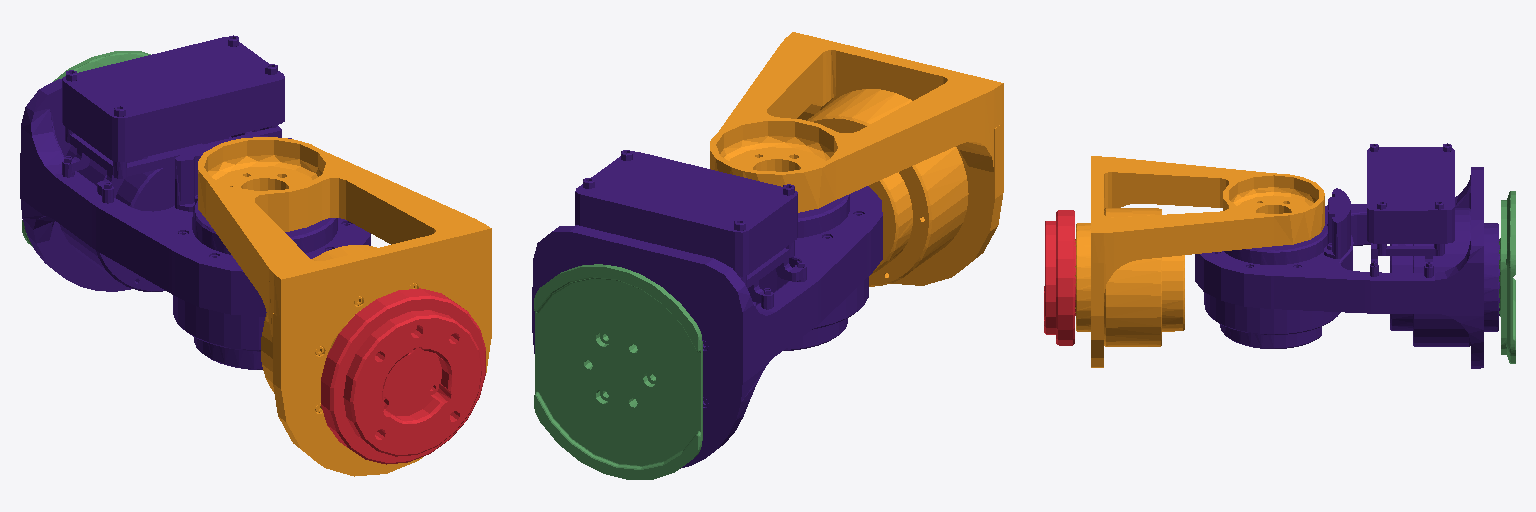
URDF robot description (cots_forearm):
<?xml version="1.0"?>
<robot name="cots_forearm">
	<link name = "world"/>
	<joint name="world_to_base" type="fixed">
		<parent link="world"/>
		<child link="base"/>
	</joint>

	<link name="base">
		<visual>
			<geometry>
				<mesh filename="package://val_description/model/meshes/forearm/cots/cots_link1.stl"/>
			</geometry>
			<origin xyz="0.0 0.0 0.0" rpy="0.0 0.0 0.0"/>
			<material name="forest_gree_crayola">
				<color rgba="0.38823529 0.64313725 0.42352941 1"/>
			</material>
		</visual>
		<collision>
			<geometry>
				<mesh filename="package://val_description/model/meshes/forearm/cots/cots_link1.stl"/>
			</geometry>
			<origin xyz="0.0 0.0 0.0" rpy="0.0 0.0 0.0"/>
		</collision>
	</link>

	<link name="input_link">
		<visual>
			<geometry>
				<mesh filename="package://val_description/model/meshes/forearm/cots/cots_link2.stl"/>
			</geometry>
			<origin xyz="0 0 0.0"/>
			<material name="spanish_violet">
				<color rgba="0.30588235 0.16470588 0.52156863 1"/>
			</material>
		</visual>
		<collision>
			<geometry>
				<mesh filename="package://val_description/model/meshes/forearm/cots/cots_link2.stl"/>
			</geometry>
			<origin xyz="0 0 0.0"/>
		</collision>
	</link>
	
	<link name="output_link">
		<visual>
			<geometry>
				<mesh filename="package://val_description/model/meshes/forearm/cots/cots_link3.stl"/>
			</geometry>
			<origin xyz="0 0 0.0"/>
			<material name="yellow_orange">
				<color rgba="1.0 0.65098039 0.18823529 1"/>
			</material>
		</visual>
		<collision>
			<geometry>
				<mesh filename="package://val_description/model/meshes/forearm/cots/cots_link3.stl"/>
			</geometry>
			<origin xyz="0 0 0.0"/>
		</collision>
	</link>

	<link name="end_effector">
		<visual>
			<geometry>
				<mesh filename="package://val_description/model/meshes/forearm/cots/cots_link4.stl" />
			</geometry>
			<origin xyz="0 0 0.0"/>
			<material name="imperial_red">
				<color rgba="0.90196078 0.22352941 0.2745098 1"/>
			</material>
		</visual>
		<collision>
			<geometry>
				<mesh filename="package://val_description/model/meshes/forearm/cots/cots_link4.stl" />
			</geometry>
			<origin xyz="0 0 0.0"/>
		</collision>
	</link>
 
	<joint name="first_roll" type="revolute">
		<axis xyz="0 0 1"/>
		<limit effort="1000.0" lower="-3.1415" upper="3.1415" velocity="0.5"/>
		<parent link = "base"/>
		<child link="input_link"/>
		<origin xyz="0.0 0.0 0.0" rpy="-1.57 0.0 0.0"/>
	</joint>

	<joint name="pitch" type="revolute">
		<axis xyz="0 0 1"/>
		<limit effort="1000.0" lower="-1.5708" upper="1.5708" velocity="0.5"/>
		<parent link="input_link"/>
		<child link="output_link"/>
		<origin xyz="0.0 -0.0305 -0.1235 " rpy="1.57 0.0 0.0"/>
	</joint>

	<joint name="second_roll" type="revolute">
		<axis xyz="0 0 1"/>
		<limit effort="1000.0" lower="-3.1415" upper="3.1415" velocity="0.5"/>
		<parent link="output_link"/>
		<child link="end_effector"/>
		<origin xyz="0 -0.109 -0.0305" rpy="-1.57 3.14 0.0"/>
	</joint>





</robot>

--- Render facts (derived) ---
3 views of the same robot in one strip: view 1: azimuth 30°, elevation 25°; view 2: azimuth 150°, elevation 25°; view 3: azimuth 270°, elevation 25° (orthographic).
Robot: cots_forearm — 5 links, 4 joints (3 revolute, 1 fixed); root link world; default pose: all joints at 0.
Links seen in each view (by area): view 1: input_link, output_link, end_effector, base; view 2: input_link, output_link, base; view 3: input_link, output_link, end_effector, base.
Boxes of the visible links, <box> form: input_link: <box>20,35,370,369</box>; output_link: <box>198,137,491,476</box>; end_effector: <box>321,288,485,464</box>; base: <box>22,51,150,246</box>; input_link: <box>532,150,882,468</box>; output_link: <box>710,32,1003,286</box>; base: <box>534,264,702,479</box>; input_link: <box>1195,143,1499,368</box>; output_link: <box>1075,156,1324,367</box>; end_effector: <box>1044,210,1075,345</box>; base: <box>1499,191,1515,363</box>.
Size in the robot's own frame: 0.1 by 0.2579 by 0.1126 metres.
4 mesh visuals loaded from 4 distinct referenced files (4 binary STL).